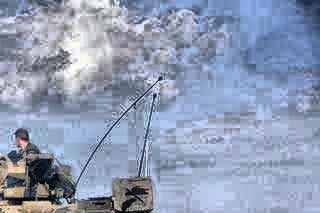tanks: (1, 156, 156, 213)
